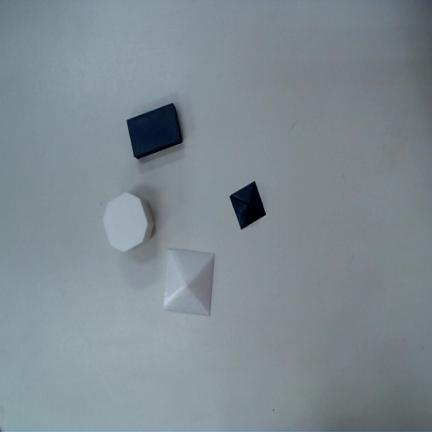Paralelepipedo: (127, 102, 183, 160)
Piramide: (163, 249, 214, 317), (229, 180, 266, 231)
Prisma_hexagonal: (103, 192, 154, 253)
